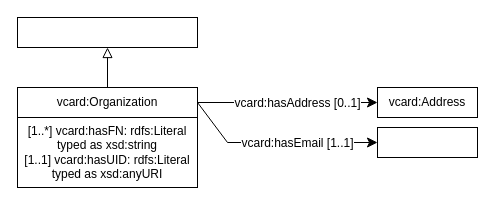
Image size: 495x205. Some labels were removed from this diagram. Each missing label, with the box of its shape:
vcard:Email: (376, 126, 478, 158)
vcard:Kind: (16, 16, 198, 48)
